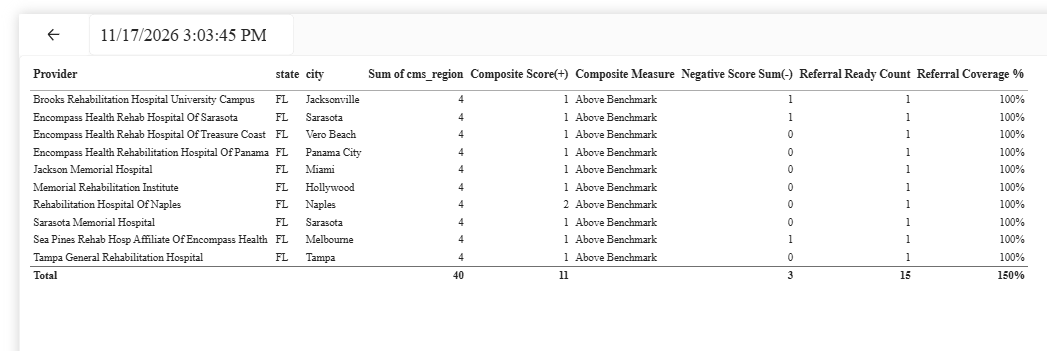

This screenshot's page, from the dashboard's own definition file:
{"tool":"powerbi","page":{"name":"Reports","canvas":[1920,1080],"ordinal":1},"visuals":[{"type":"tableEx","fields":{"Values":["irf_composite_index.provider_name","irf_composite_index.state","irf_composite_index.city","Sum(irf_composite_index.cms_region)","Sum(irf_composite_index.composite_score)","irf_composite_index.composite_score_measures","Sum(irf_composite_index.Negative Score Count)","irf_composite_index.Referral-Ready Facilities","irf_composite_index.Referral Coverage %"]},"box":[0,66.7,1920,945],"z":0},{"type":"cardVisual","fields":{"Data":["irf_composite_index.Current Time"]},"box":[111.7,0,328.3,66.7],"z":1000},{"type":"actionButton","box":[0,0,111.7,66.7],"z":2000}]}

Visuals, with their boxes on the page's 1920x1080 design canvas (x1, y1, x2, y2). These are canvas units, not pixel positions in the 1047x351 screenshot, which may show the page scaled, cropped or inside an application window:
tableEx - irf_composite_index.provider_name x irf_composite_index.state: Rect(0, 67, 1920, 1012)
cardVisual - irf_composite_index.Current Time: Rect(112, 0, 440, 67)
actionButton: Rect(0, 0, 112, 67)
